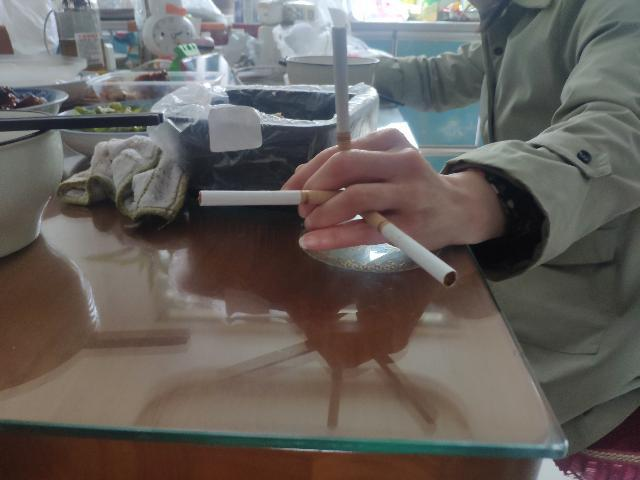Smoking: (360, 206, 460, 288), (330, 25, 356, 187), (198, 190, 354, 206)
